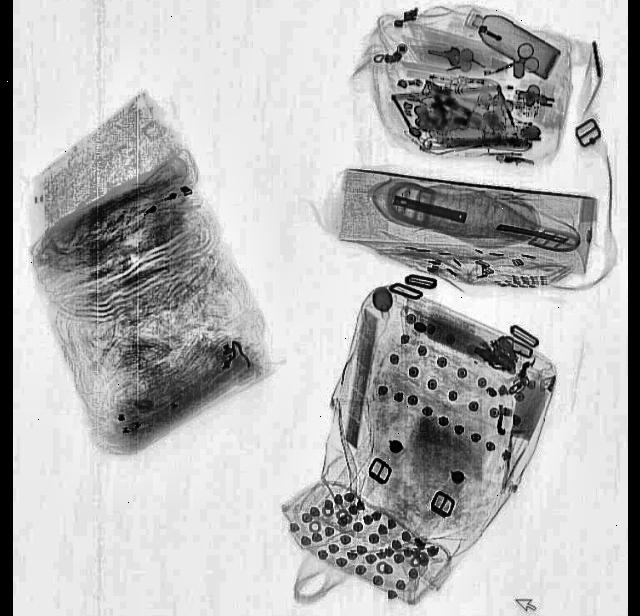Scissors: (478, 38, 542, 90)
